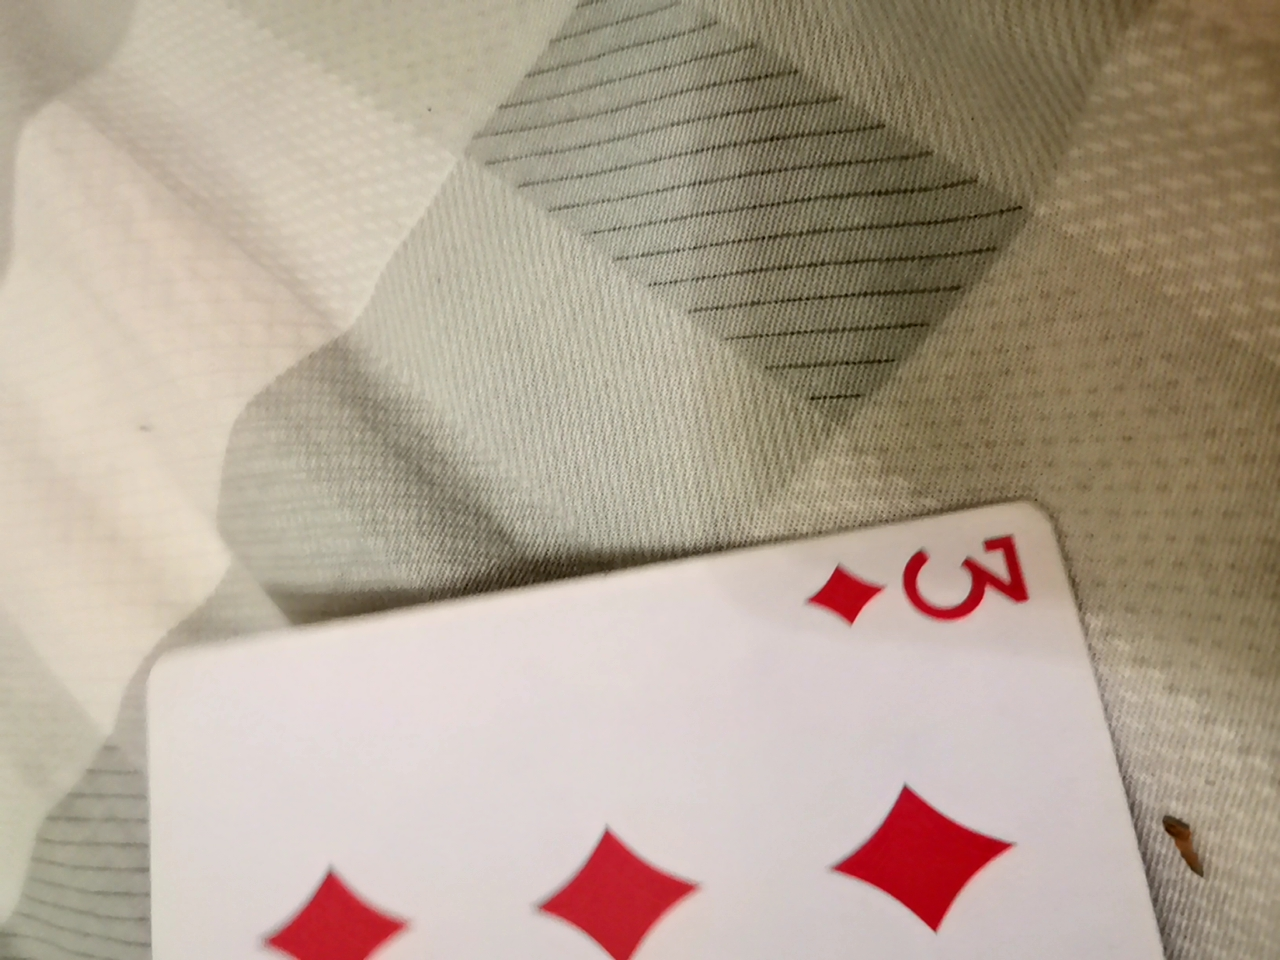fk 3: (127, 515, 1212, 952)
